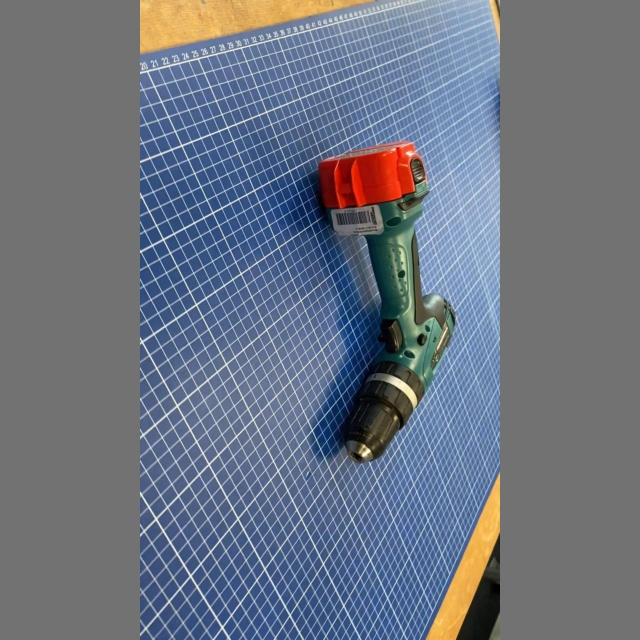drill: (313, 136, 461, 469)
